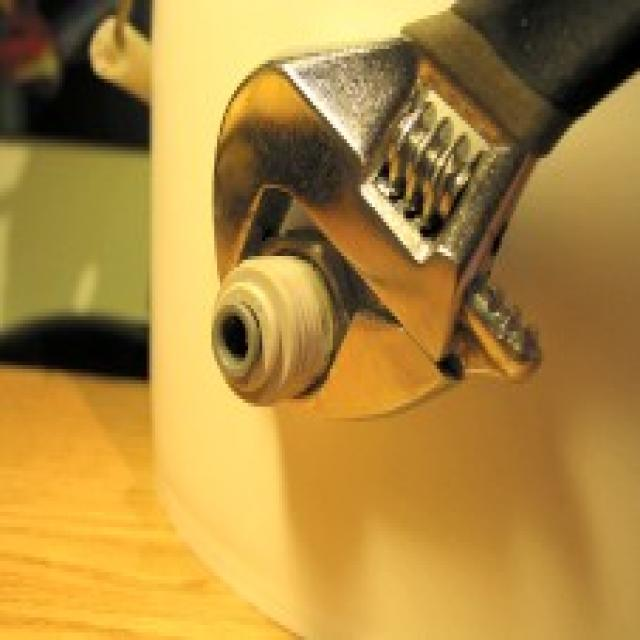wrench: (183, 0, 629, 444)
